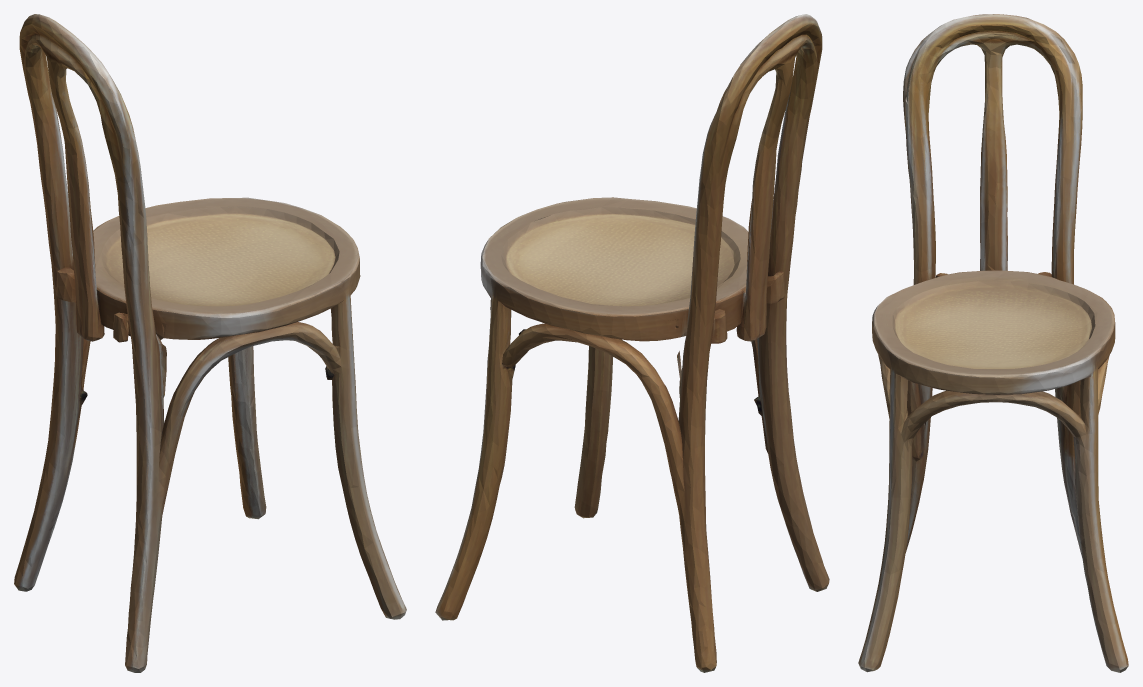
The picture shows the model from 3 angles, left to right: view 1: azimuth 30°, elevation 25°; view 2: azimuth 150°, elevation 25°; view 3: azimuth 270°, elevation 25°; orthographic projection. The views are drawn at different scales.
Parts seen in each view (by area): view 1: world; view 2: world; view 3: world.
Part boxes in pixels (box(x1,y1,x2,y2)): world: box(14, 14, 406, 672); world: box(435, 14, 829, 672); world: box(858, 14, 1128, 672).
Bounding box in the file's own units: 0.4952 × 0.9958 × 0.4483.
1 material, 1 textured.
